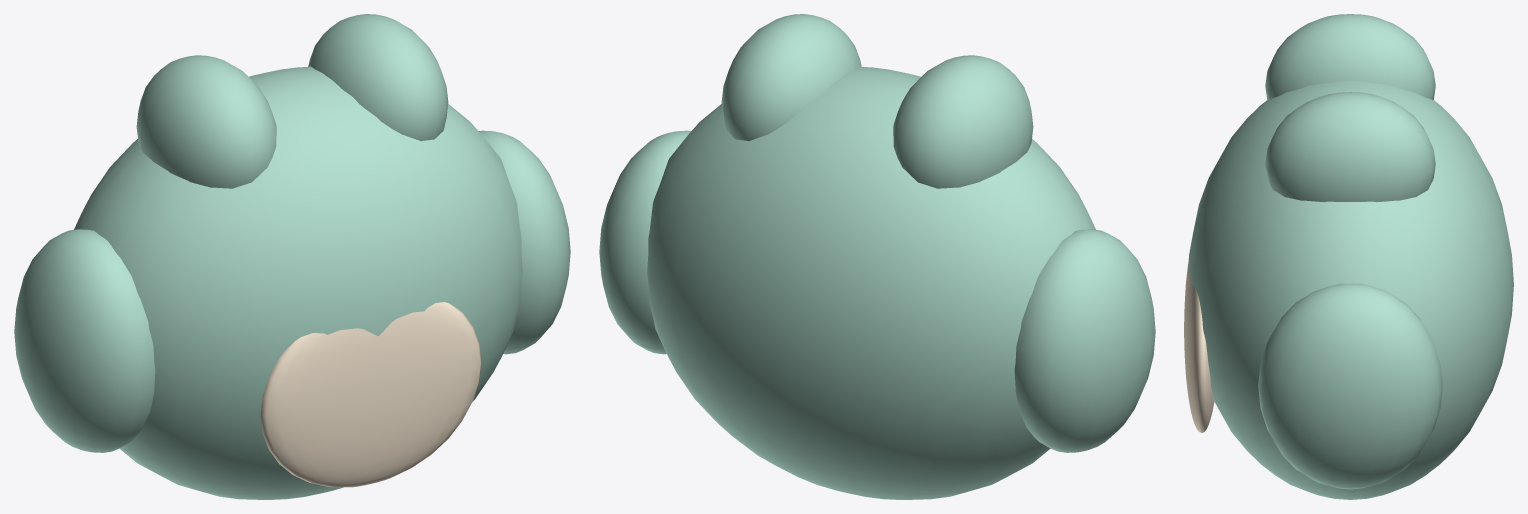
File: body-round.glb
3 views of the same model, side by side, from view 1: azimuth 30°, elevation 25°; view 2: azimuth 150°, elevation 25°; view 3: azimuth 270°, elevation 25° (orthographic). The views are drawn at different scales.
Visible parts, largest first — view 1: CMP_Critter_Body_Round_Core, CMP_Critter_Body_Round_Belly, CMP_Critter_Body_Round_Arm_L, CMP_Critter_Body_Round_Ear_L, CMP_Critter_Body_Round_Ear_R, CMP_Critter_Body_Round_Arm_R; view 2: CMP_Critter_Body_Round_Core, CMP_Critter_Body_Round_Arm_L, CMP_Critter_Body_Round_Ear_L, CMP_Critter_Body_Round_Ear_R, CMP_Critter_Body_Round_Arm_R; view 3: CMP_Critter_Body_Round_Core, CMP_Critter_Body_Round_Arm_R, CMP_Critter_Body_Round_Ear_R, CMP_Critter_Body_Round_Ear_L, CMP_Critter_Body_Round_Belly.
Boxes of the visible parts, x1=… form: CMP_Critter_Body_Round_Core: x1=74, y1=66, x2=522, y2=499; CMP_Critter_Body_Round_Belly: x1=260, y1=302, x2=481, y2=487; CMP_Critter_Body_Round_Arm_L: x1=14, y1=229, x2=155, y2=452; CMP_Critter_Body_Round_Ear_L: x1=136, y1=55, x2=276, y2=188; CMP_Critter_Body_Round_Ear_R: x1=308, y1=14, x2=448, y2=141; CMP_Critter_Body_Round_Arm_R: x1=478, y1=130, x2=570, y2=354; CMP_Critter_Body_Round_Core: x1=647, y1=66, x2=1095, y2=499; CMP_Critter_Body_Round_Arm_L: x1=1014, y1=229, x2=1155, y2=452; CMP_Critter_Body_Round_Ear_L: x1=893, y1=55, x2=1033, y2=188; CMP_Critter_Body_Round_Ear_R: x1=721, y1=14, x2=861, y2=141; CMP_Critter_Body_Round_Arm_R: x1=599, y1=130, x2=691, y2=354; CMP_Critter_Body_Round_Core: x1=1187, y1=81, x2=1513, y2=499; CMP_Critter_Body_Round_Arm_R: x1=1258, y1=283, x2=1442, y2=489; CMP_Critter_Body_Round_Ear_R: x1=1265, y1=92, x2=1435, y2=202; CMP_Critter_Body_Round_Ear_L: x1=1265, y1=14, x2=1435, y2=99; CMP_Critter_Body_Round_Belly: x1=1184, y1=262, x2=1214, y2=432.
Size of the model in its own units: 3.2 by 2.59 by 1.86.
